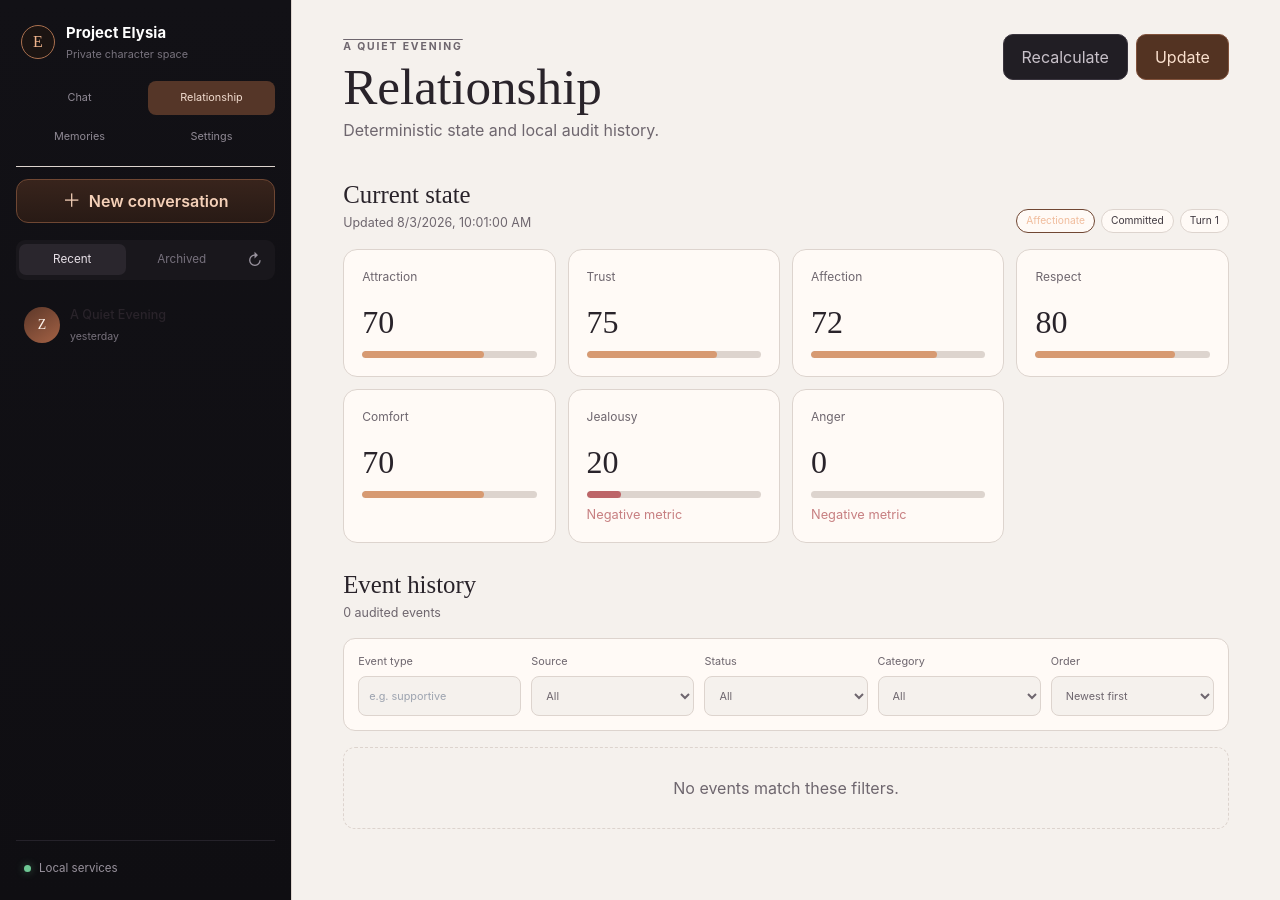
Test case: Batch 7 dashboards › shows relationship validation and event filters
This screenshot has width=1280, height=900.
What coordinates should you click on to do the following:
click the button "Update"
I would click on:
 (1182, 57)
Its box is [1136, 34, 1229, 80].
(page scrolled)
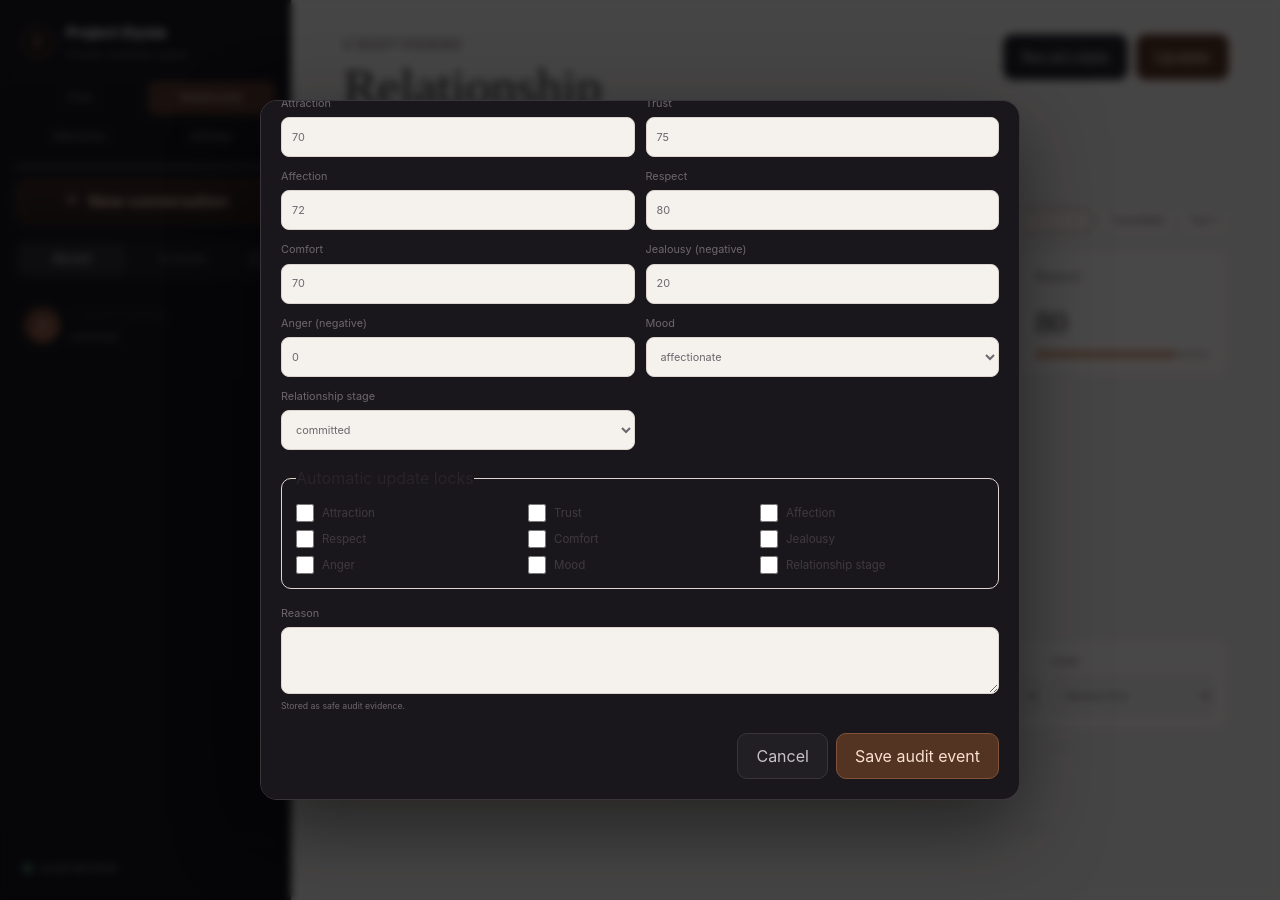
What coordinates should you click on to do the following:
click the button "Save audit event"
I would click on:
 (917, 756)
Its box is [836, 734, 999, 780].
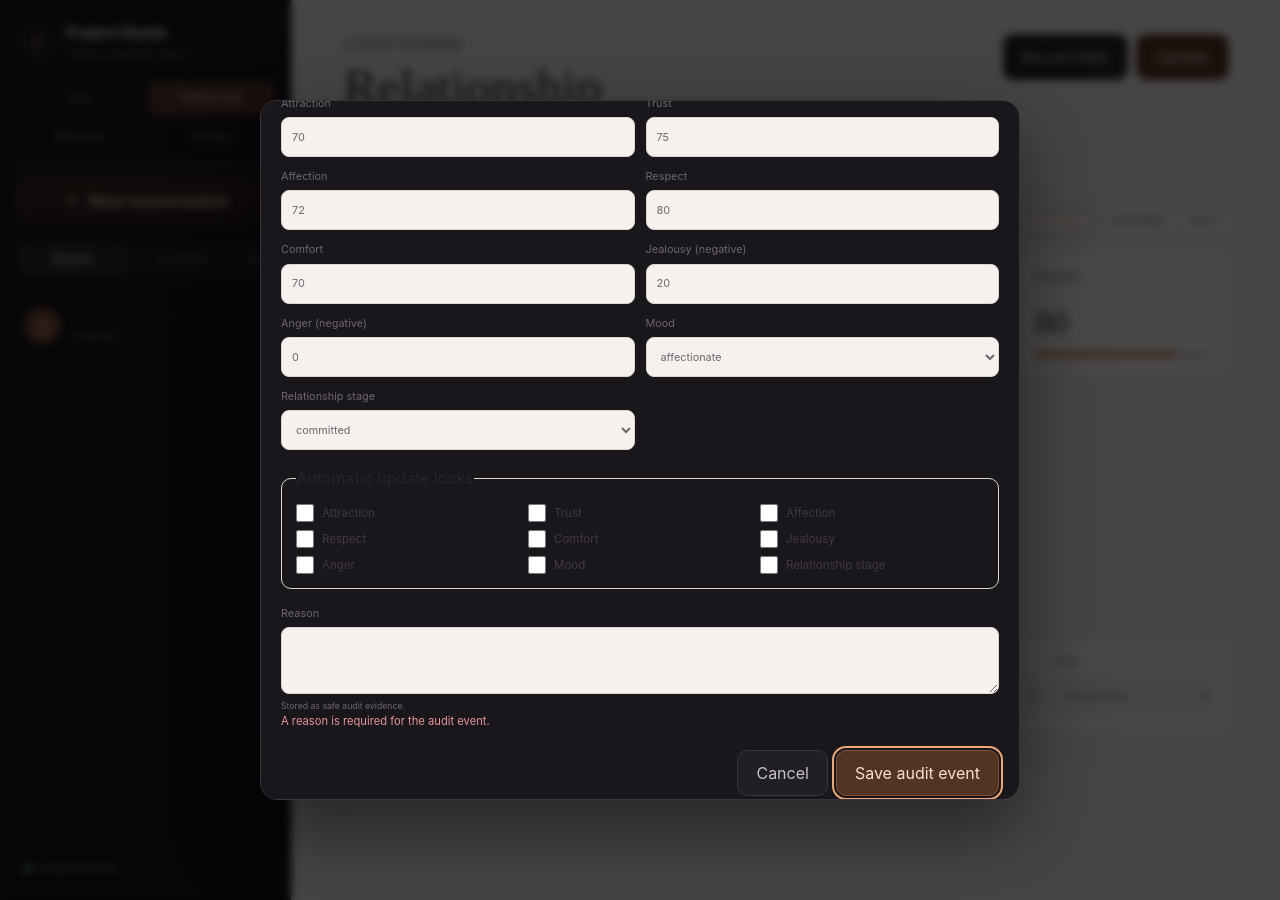
Expected: the dropdown labelled "Source" is shown, [531, 676, 694, 716]
Expected: the message shows "reason is required", [281, 714, 490, 728]
